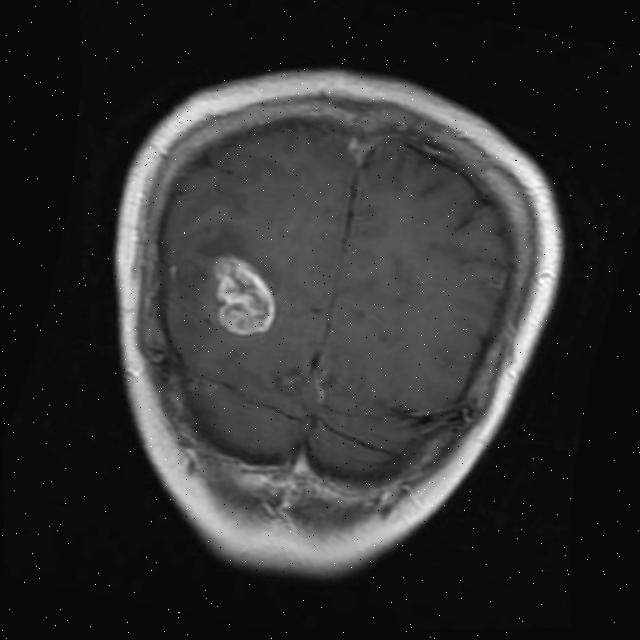Glioma: (195, 247, 287, 342)
